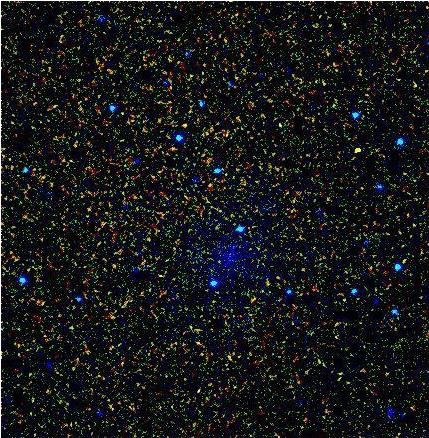star: (342, 134, 372, 164)
